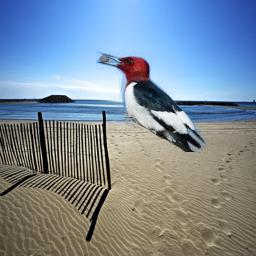Woodpecker: (96, 51, 207, 152)
